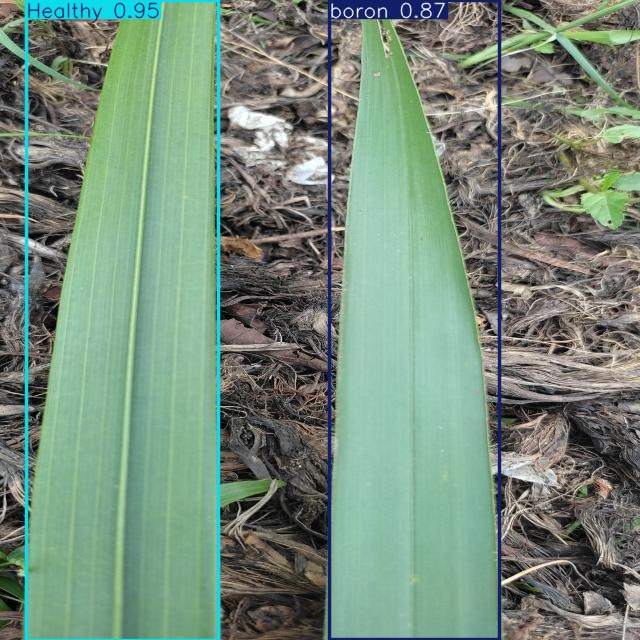Healthy: (26, 0, 218, 640)
nitrogen: (329, 0, 499, 640)
